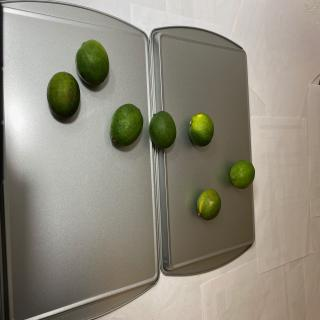Lemon: (46, 71, 80, 119), (75, 39, 109, 86), (110, 103, 144, 147), (149, 110, 176, 149), (188, 112, 214, 147), (197, 188, 221, 221), (230, 160, 255, 189)
